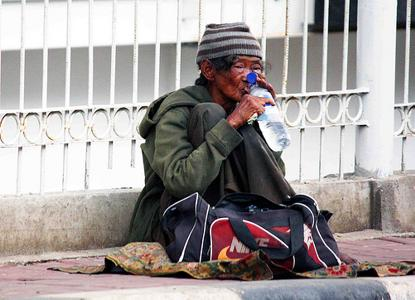person: (123, 22, 296, 240)
